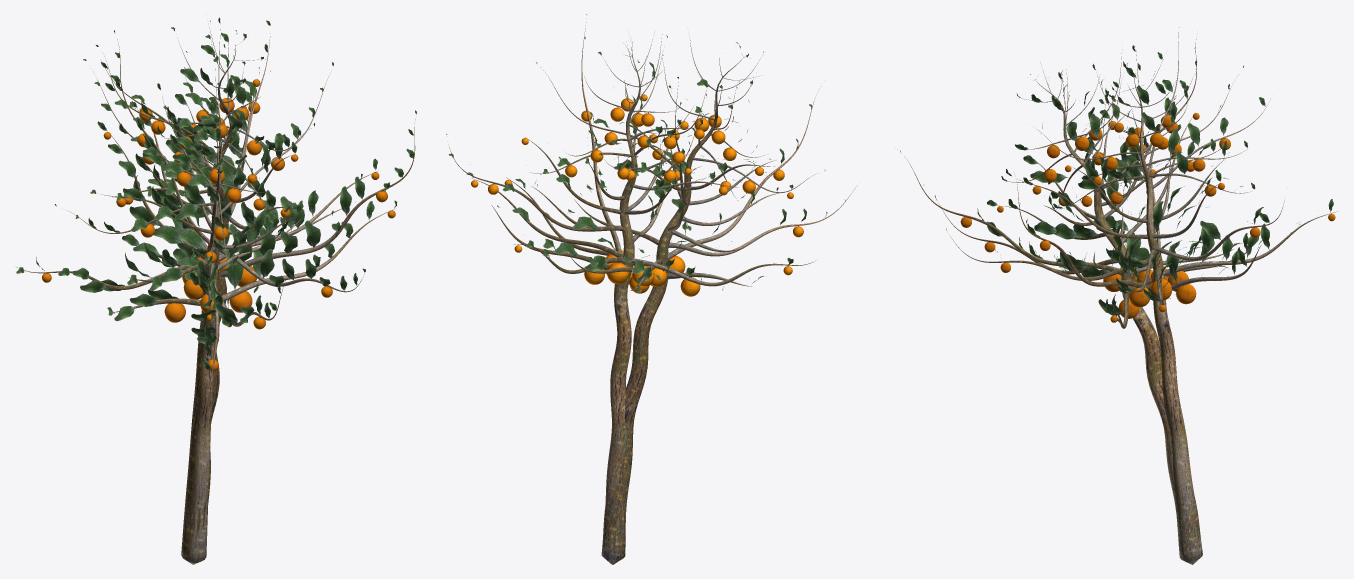
The model's file is orange-tree.glb.
3 renders of one model, left to right at view 1: azimuth 30°, elevation 25°; view 2: azimuth 150°, elevation 25°; view 3: azimuth 270°, elevation 25°, orthographic. The views are drawn at different scales.
Parts seen in each view (by area): view 1: GeometryNode_24, GeometryNode_6, GeometryNode_42; view 2: GeometryNode_6, GeometryNode_42, GeometryNode_24; view 3: GeometryNode_6, GeometryNode_24, GeometryNode_42.
Boxes of the visible parts, x1,y1,x2,y2 form: GeometryNode_24: (16, 17, 416, 370); GeometryNode_6: (17, 28, 415, 564); GeometryNode_42: (42, 79, 395, 371); GeometryNode_6: (449, 18, 857, 564); GeometryNode_42: (471, 94, 803, 296); GeometryNode_24: (446, 14, 845, 292); GeometryNode_6: (897, 27, 1337, 564); GeometryNode_24: (900, 45, 1333, 322); GeometryNode_42: (960, 113, 1335, 322).
Bounding box in the file's own units: 8.97 × 12.83 × 10.17.
3 materials, 3 textured.
